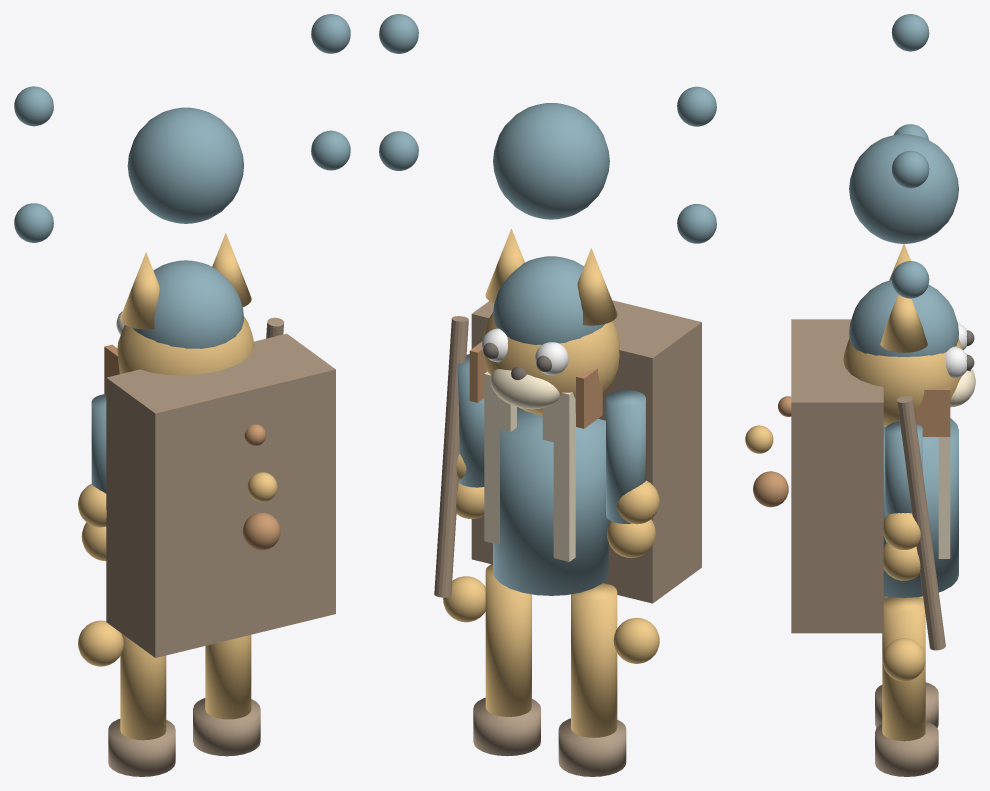
Rendered from cat_hoplite_v1.glb.
3 renders of one model, left to right at view 1: azimuth 30°, elevation 25°; view 2: azimuth 150°, elevation 25°; view 3: azimuth 270°, elevation 25°, orthographic. The views are drawn at different scales.
Visible parts, largest first — view 1: Backpack, Sphere.004, Sphere.005, Head, Leg.-1, Leg.1, Boot.-1, Boot.1, Ear.-1, Sphere.001, Arm.-1, Sphere.007 (+8 smaller); view 2: Backpack, Torso, Sphere.004, Leg.-1, Sphere.005, Leg.1, Stick, Head, Arm.-1, Strap.-1, Strap.1, Boot.-1 (+17 smaller); view 3: Backpack, Sphere.004, Leg.1, Sphere.005, Torso, Head, Stick, Boot.1, Arm.1, Ear.1, Strap.1, CheekStripe.1 (+11 smaller).
Part boxes in pixels (left/top/right/bottom): Backpack: left=106, top=333, right=335, bottom=657; Sphere.004: left=127, top=107, right=243, bottom=223; Sphere.005: left=132, top=260, right=243, bottom=348; Head: left=117, top=316, right=254, bottom=375; Leg.-1: left=120, top=634, right=166, bottom=740; Leg.1: left=205, top=635, right=251, bottom=719; Boot.-1: left=108, top=719, right=175, bottom=776; Boot.1: left=193, top=698, right=260, bottom=756; Ear.-1: left=120, top=252, right=159, bottom=329; Sphere.001: left=78, top=620, right=123, bottom=666; Arm.-1: left=91, top=394, right=106, bottom=493; Sphere.007: left=14, top=203, right=53, bottom=242; Backpack: left=471, top=300, right=701, bottom=603; Torso: left=493, top=407, right=608, bottom=595; Sphere.004: left=493, top=103, right=609, bottom=219; Leg.-1: left=571, top=583, right=617, bottom=737; Sphere.005: left=493, top=256, right=604, bottom=344; Leg.1: left=485, top=563, right=531, bottom=716; Stick: left=434, top=316, right=468, bottom=597; Head: left=483, top=312, right=619, bottom=415; Arm.-1: left=606, top=390, right=645, bottom=523; Strap.-1: left=542, top=392, right=575, bottom=561; Strap.1: left=484, top=371, right=516, bottom=544; Boot.-1: left=558, top=718, right=626, bottom=776; Backpack: left=791, top=319, right=883, bottom=633; Sphere.004: left=849, top=134, right=958, bottom=243; Leg.1: left=882, top=597, right=925, bottom=741; Sphere.005: left=849, top=280, right=958, bottom=356; Torso: left=883, top=418, right=958, bottom=597; Head: left=843, top=337, right=962, bottom=426; Stick: left=897, top=396, right=945, bottom=650; Boot.1: left=875, top=721, right=938, bottom=776; Arm.1: left=885, top=421, right=922, bottom=543; Ear.1: left=880, top=294, right=927, bottom=352; Strap.1: left=938, top=437, right=950, bottom=558; CheekStripe.1: left=915, top=386, right=950, bottom=436.
Size of the model in its own units: 1.25 by 2.52 by 0.797.
